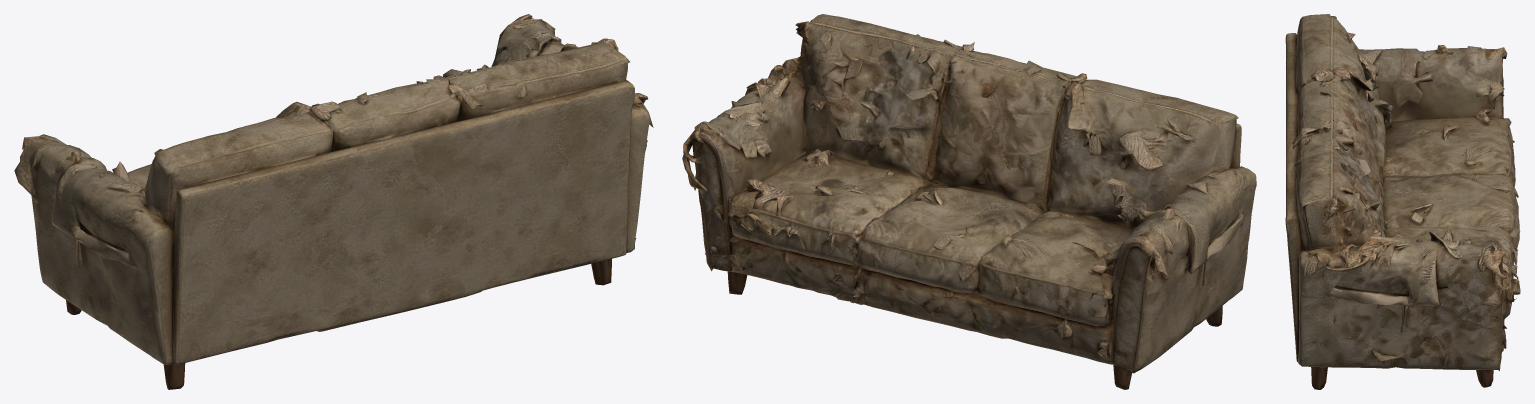
The model's file is sofa.glb.
The picture shows the model from 3 angles, left to right: view 1: azimuth 30°, elevation 25°; view 2: azimuth 150°, elevation 25°; view 3: azimuth 270°, elevation 25°; orthographic projection. The views are drawn at different scales.
Parts seen in each view (by area): view 1: tripo_node_9817ee6e-db42-4b5b-b3a1-cf9d79a5f7ae; view 2: tripo_node_9817ee6e-db42-4b5b-b3a1-cf9d79a5f7ae; view 3: tripo_node_9817ee6e-db42-4b5b-b3a1-cf9d79a5f7ae.
Part boxes in pixels (x1=…): tripo_node_9817ee6e-db42-4b5b-b3a1-cf9d79a5f7ae: x1=14, y1=14, x2=653, y2=389; tripo_node_9817ee6e-db42-4b5b-b3a1-cf9d79a5f7ae: x1=682, y1=14, x2=1256, y2=389; tripo_node_9817ee6e-db42-4b5b-b3a1-cf9d79a5f7ae: x1=1285, y1=14, x2=1520, y2=389.
Bounding box in the file's own units: 1.96 × 0.85 × 0.8957.
1 material, 1 textured.
